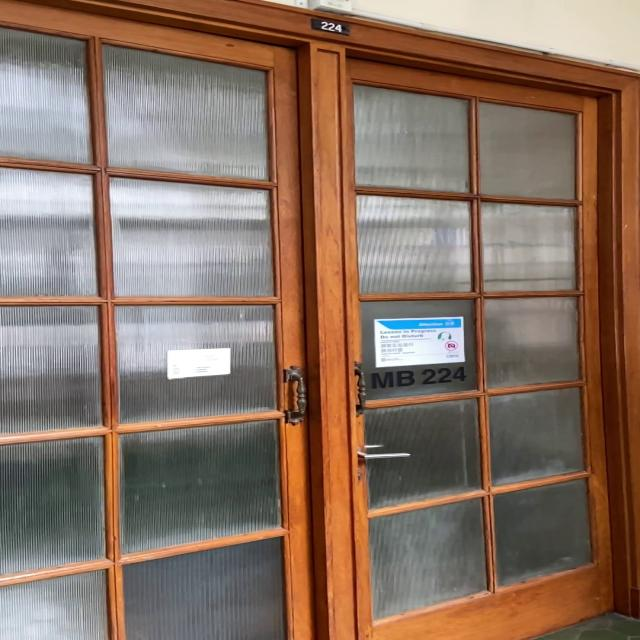room224: (308, 17, 354, 36)
room224Window: (368, 365, 467, 393)
